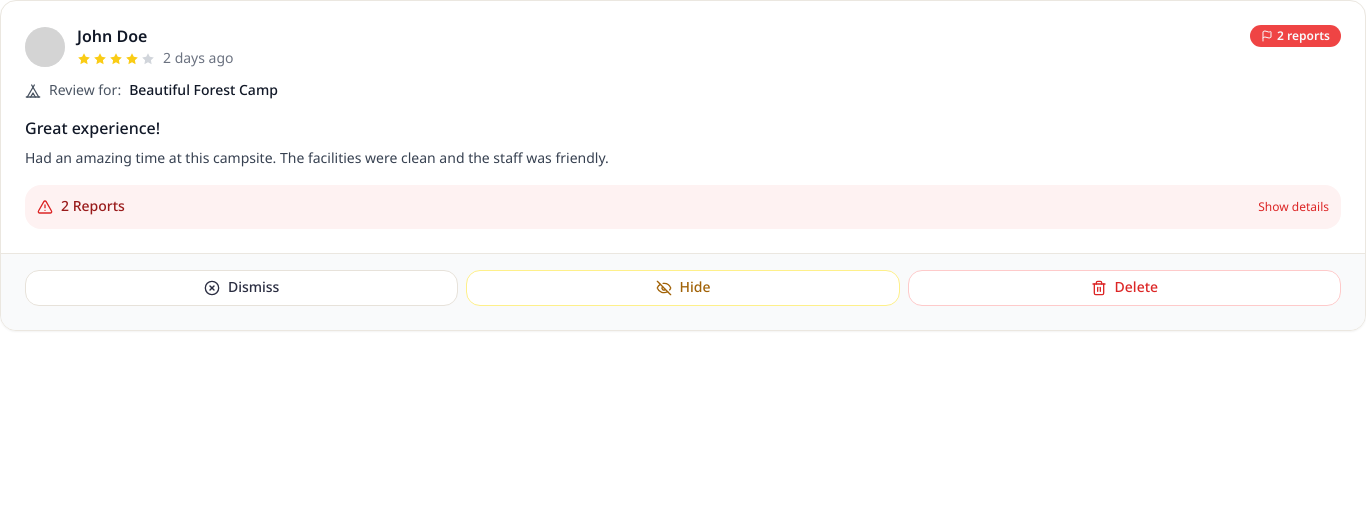
Test case: ReportedReviewCard › Report Display Tests › lists individual reports when expanded
The width and height of the screenshot is (1366, 521).
Click the text "Show details": (1294, 207) [1258,199,1329,215]
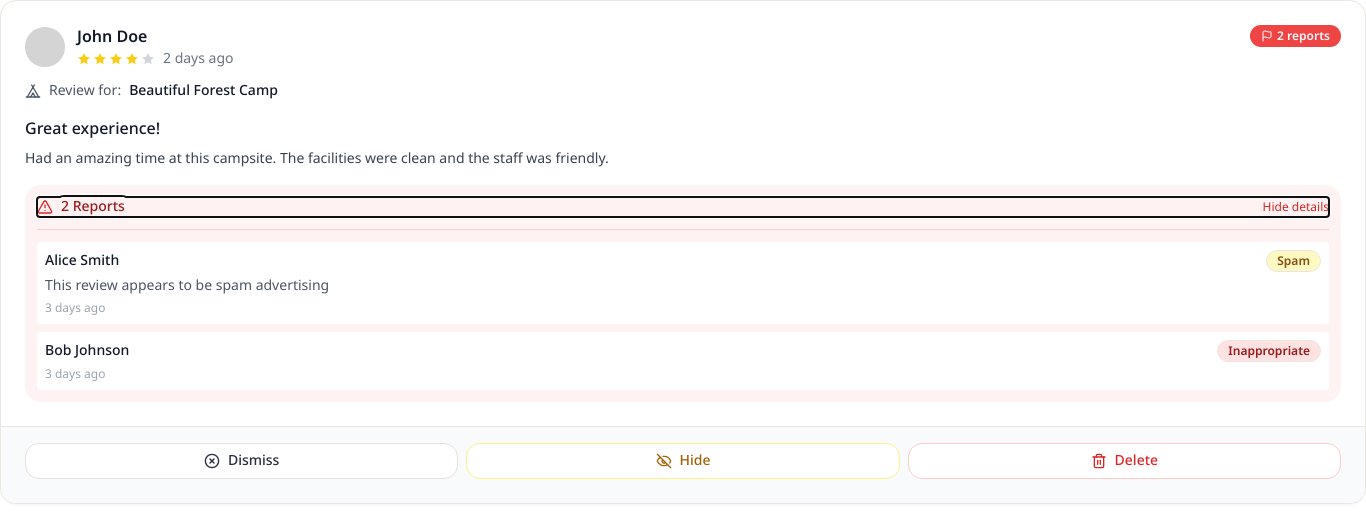
Now the text "Alice Smith" is shown, box [45,251,119,271]
Now the text "Bob Johnson" is shown, box [45,341,129,361]
